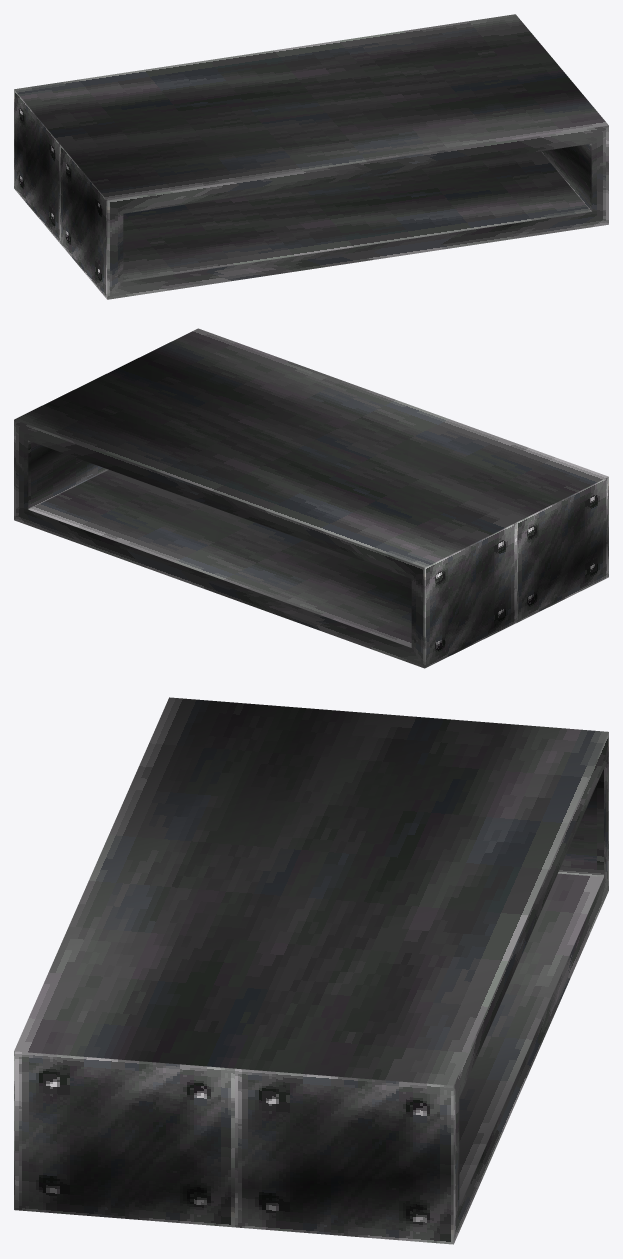
Rendered from SWORDLIGHT20_BRIDGEHOUSING03.fbx.
3 views of the same model, one above another, from view 1: azimuth 30°, elevation 25°; view 2: azimuth 150°, elevation 25°; view 3: azimuth 270°, elevation 25° (orthographic). The views are drawn at different scales.
Parts seen in each view (by area): view 1: SWORDLIGHT20_BRIDGEHOUSING03; view 2: SWORDLIGHT20_BRIDGEHOUSING03; view 3: SWORDLIGHT20_BRIDGEHOUSING03.
Boxes of the visible parts, x1,y1,x2,y2 form: SWORDLIGHT20_BRIDGEHOUSING03: (14, 14, 608, 299); SWORDLIGHT20_BRIDGEHOUSING03: (14, 328, 608, 668); SWORDLIGHT20_BRIDGEHOUSING03: (14, 697, 608, 1244).
Size of the model in its own units: 18259 by 3480 by 11822.
Materials: 1 (1 with a texture image).
